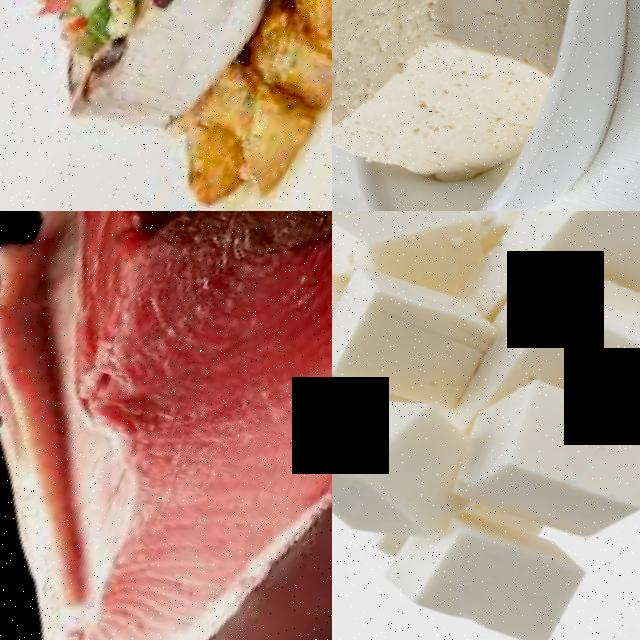tofu: (332, 0, 592, 191), (446, 361, 640, 559), (379, 495, 610, 640), (332, 368, 503, 561), (332, 259, 516, 420), (525, 211, 640, 312)
tuna: (8, 211, 332, 564)
